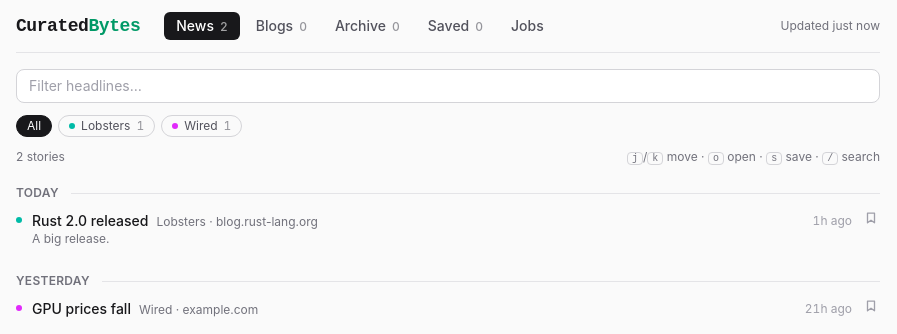
Scenario: filters by search text and by source
Expected: the link "Rust 2.0 released" is shown, [32, 212, 148, 229]
Type "gpu" into the search field labelled "Filter headlines". click: [448, 86]
box: [16, 69, 880, 103]
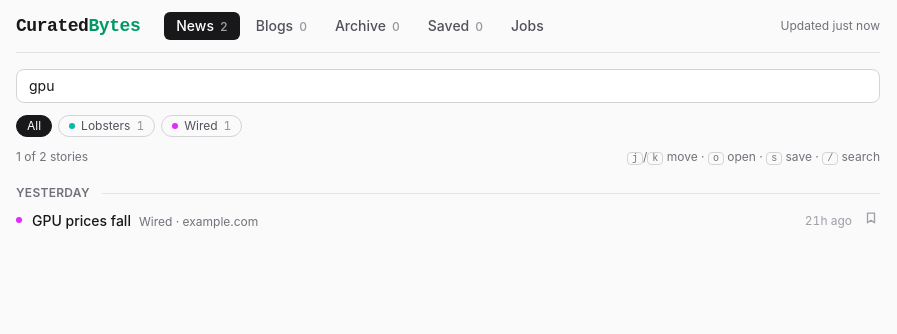
Result: the text "1 of 2 stories" is shown at [16, 149, 88, 165]
Clear the search field. click: [448, 86]
box: [16, 69, 880, 103]
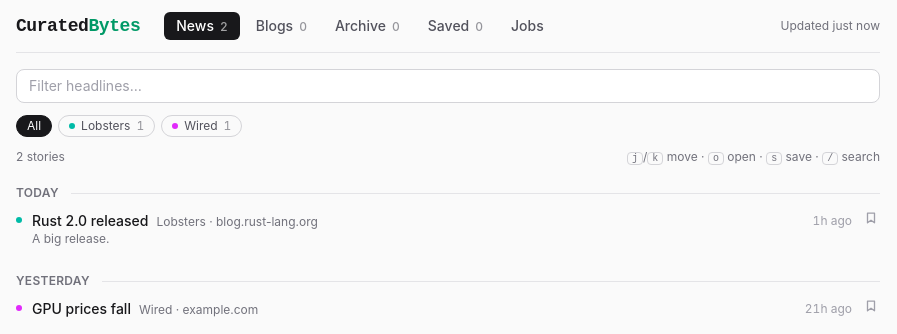
Click the button "Lobsters 1". click: [107, 126]
box: [58, 115, 155, 137]
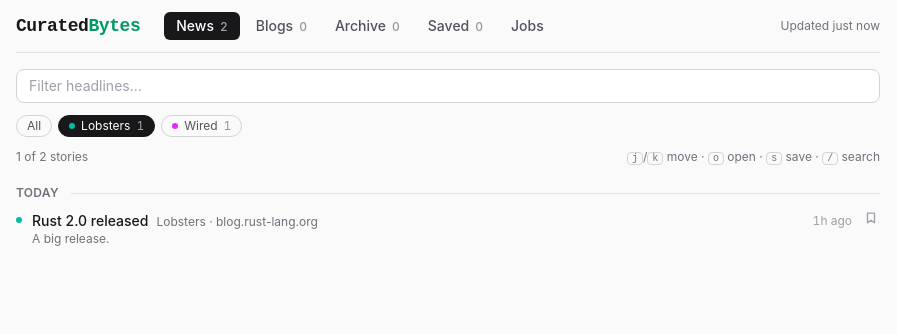
Result: the button "Lobsters 1" is pressed at [58, 115, 155, 137]
Click the button "All". click: [34, 126]
box: [16, 115, 52, 137]
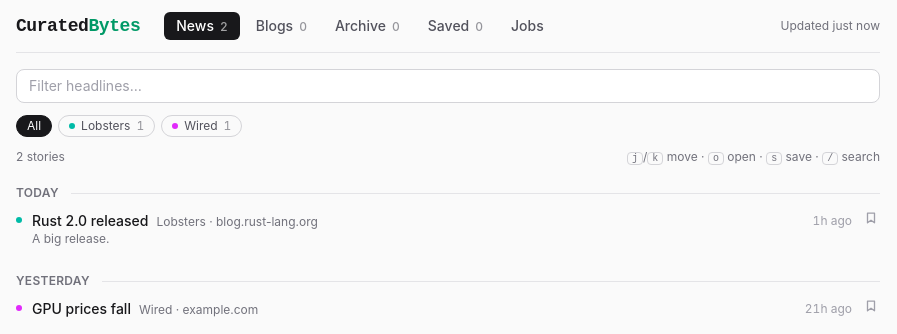
Result: the number of links is 2 at [32, 212, 148, 229]; [32, 300, 131, 317]
Type "nothing matches" into the search field. click: [448, 86]
box: [16, 69, 880, 103]
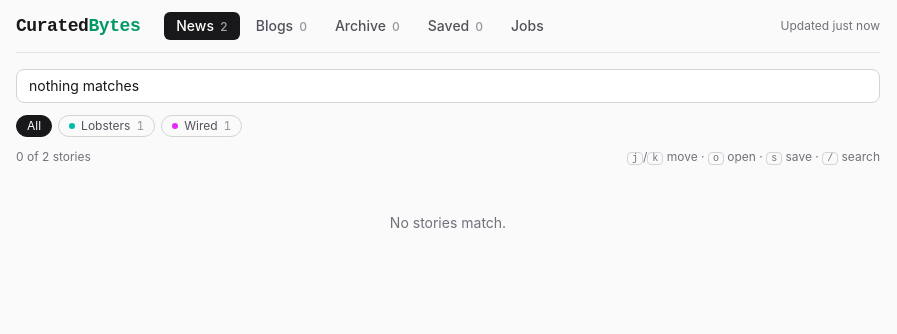
Result: the text "No stories match." is shown at [390, 214, 506, 231]
